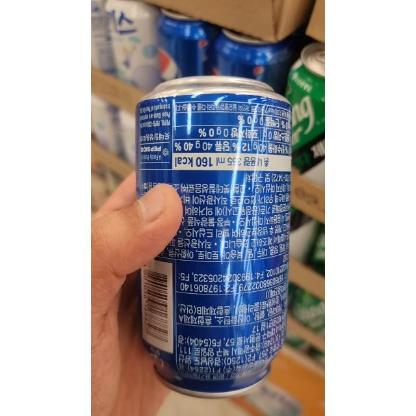Can: (136, 76, 294, 398)
